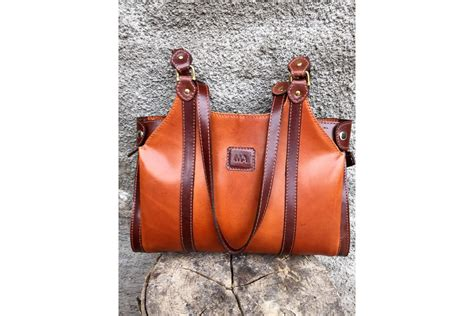cuero: (133, 48, 353, 257)
